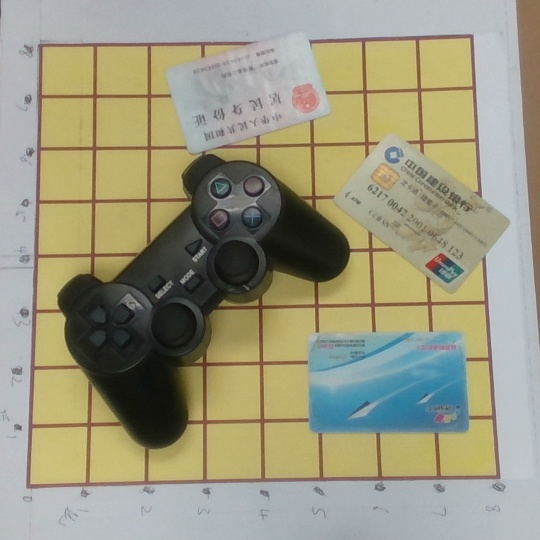card: (334, 131, 511, 294), (161, 32, 333, 155), (308, 330, 471, 434)
remote: (57, 152, 353, 453)
